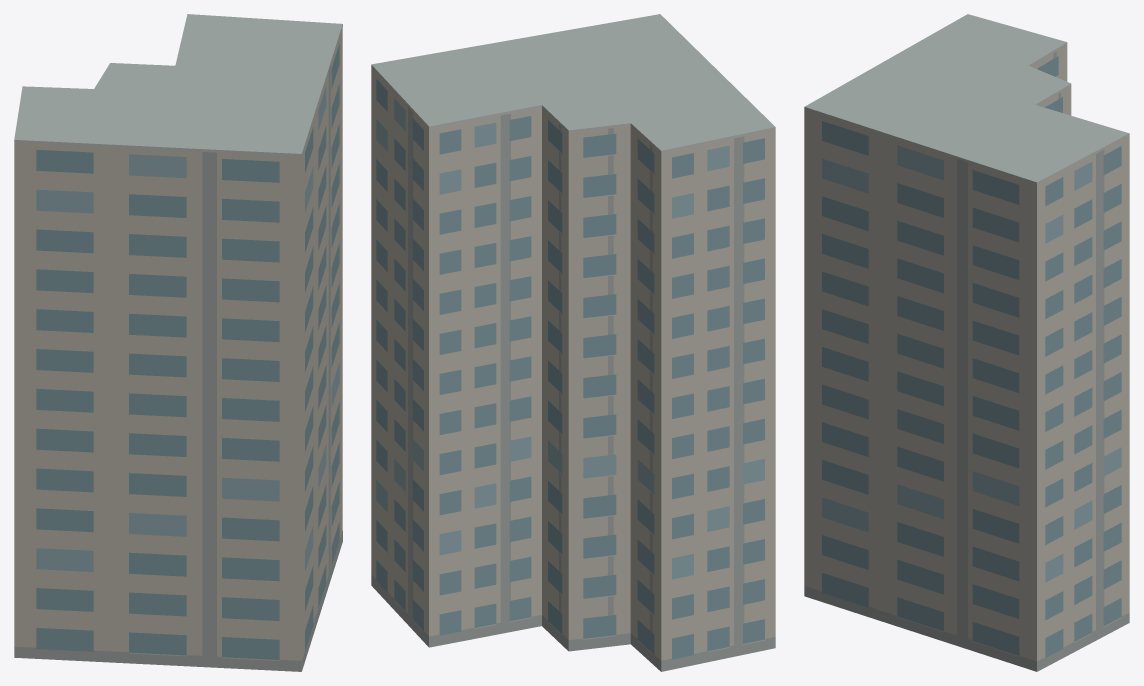
The model's file is residential-c699ef56-9345-4304-8da1-fbde50b6bde5.glb.
3 renders of one model, left to right at view 1: azimuth 30°, elevation 25°; view 2: azimuth 150°, elevation 25°; view 3: azimuth 270°, elevation 25°, orthographic. The views are drawn at different scales.
Visible parts, largest first — view 1: residential-c699ef56-9345-4304-8da1-fbde50b6bde5.tmp; view 2: residential-c699ef56-9345-4304-8da1-fbde50b6bde5.tmp; view 3: residential-c699ef56-9345-4304-8da1-fbde50b6bde5.tmp.
Part boxes in pixels (x1,y1,x2,y2): residential-c699ef56-9345-4304-8da1-fbde50b6bde5.tmp: (14, 14, 342, 671); residential-c699ef56-9345-4304-8da1-fbde50b6bde5.tmp: (371, 14, 775, 671); residential-c699ef56-9345-4304-8da1-fbde50b6bde5.tmp: (804, 14, 1129, 671).
Size of the model in its own units: 33.96 by 46 by 27.71.
